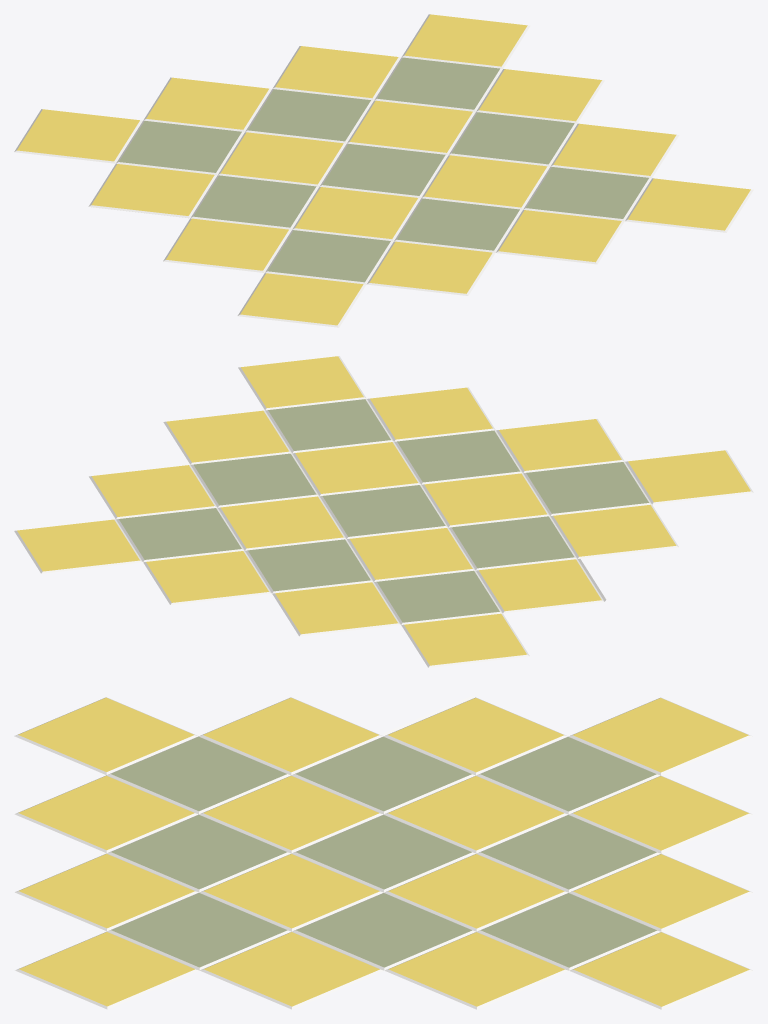
File: Floortile_4.fbx
3 views of the same model, one above another, from view 1: azimuth 30°, elevation 25°; view 2: azimuth 150°, elevation 25°; view 3: azimuth 270°, elevation 25° (orthographic). The views are drawn at different scales.
Parts seen in each view (by area): view 1: Floortile_4; view 2: Floortile_4; view 3: Floortile_4.
Boxes of the visible parts, x1,y1,x2,y2 form: Floortile_4: (14, 14, 753, 327); Floortile_4: (14, 356, 753, 667); Floortile_4: (14, 696, 753, 1009).
Bounding box in the file's own units: 483 × 483 × 0.9414.
